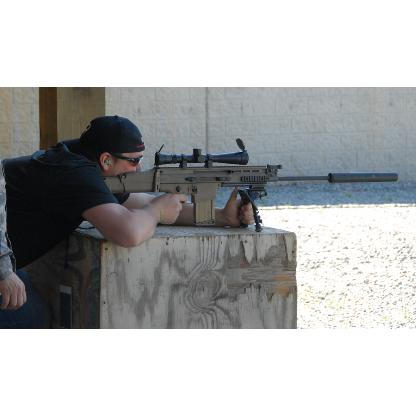gun: (102, 137, 398, 231)
